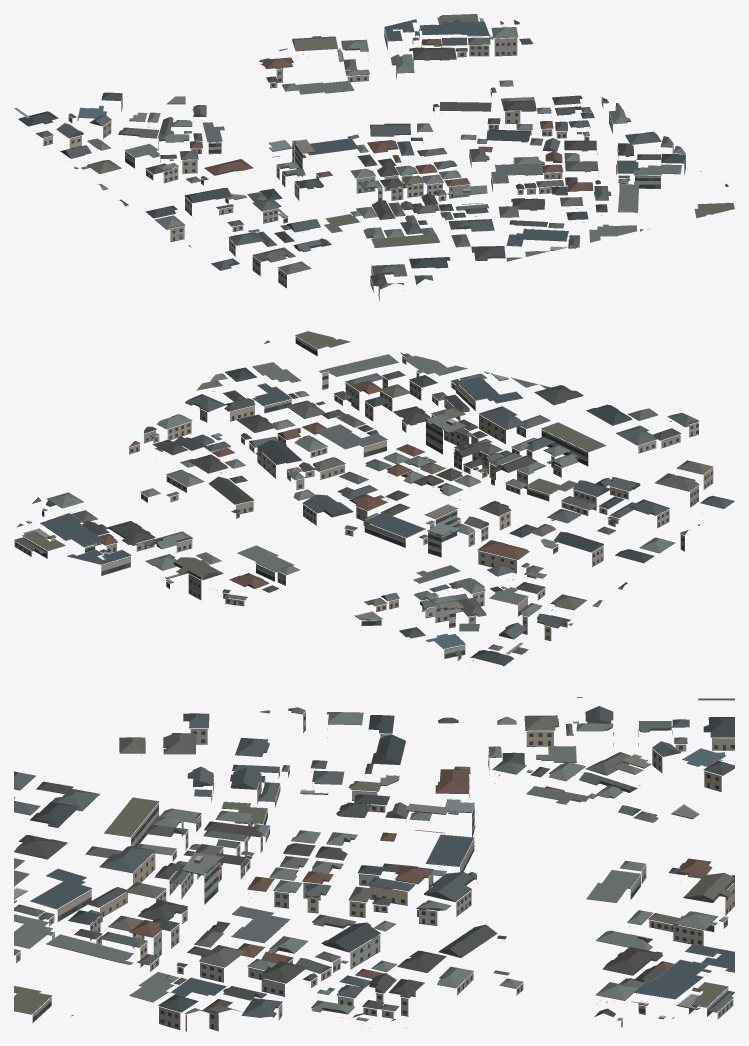
3 renders of one model, top to bottom at view 1: azimuth 30°, elevation 25°; view 2: azimuth 150°, elevation 25°; view 3: azimuth 270°, elevation 25°, orthographic. The views are drawn at different scales.
Visible parts, largest first — view 1: r5-c2; view 2: r5-c2; view 3: r5-c2.
Part boxes in pixels (left/top/right/bottom): r5-c2: left=14, top=14, right=734, bottom=302; r5-c2: left=14, top=331, right=734, bottom=666; r5-c2: left=14, top=697, right=734, bottom=1031.
Bounding box in the file's own units: 250 × 14.3 × 250.
